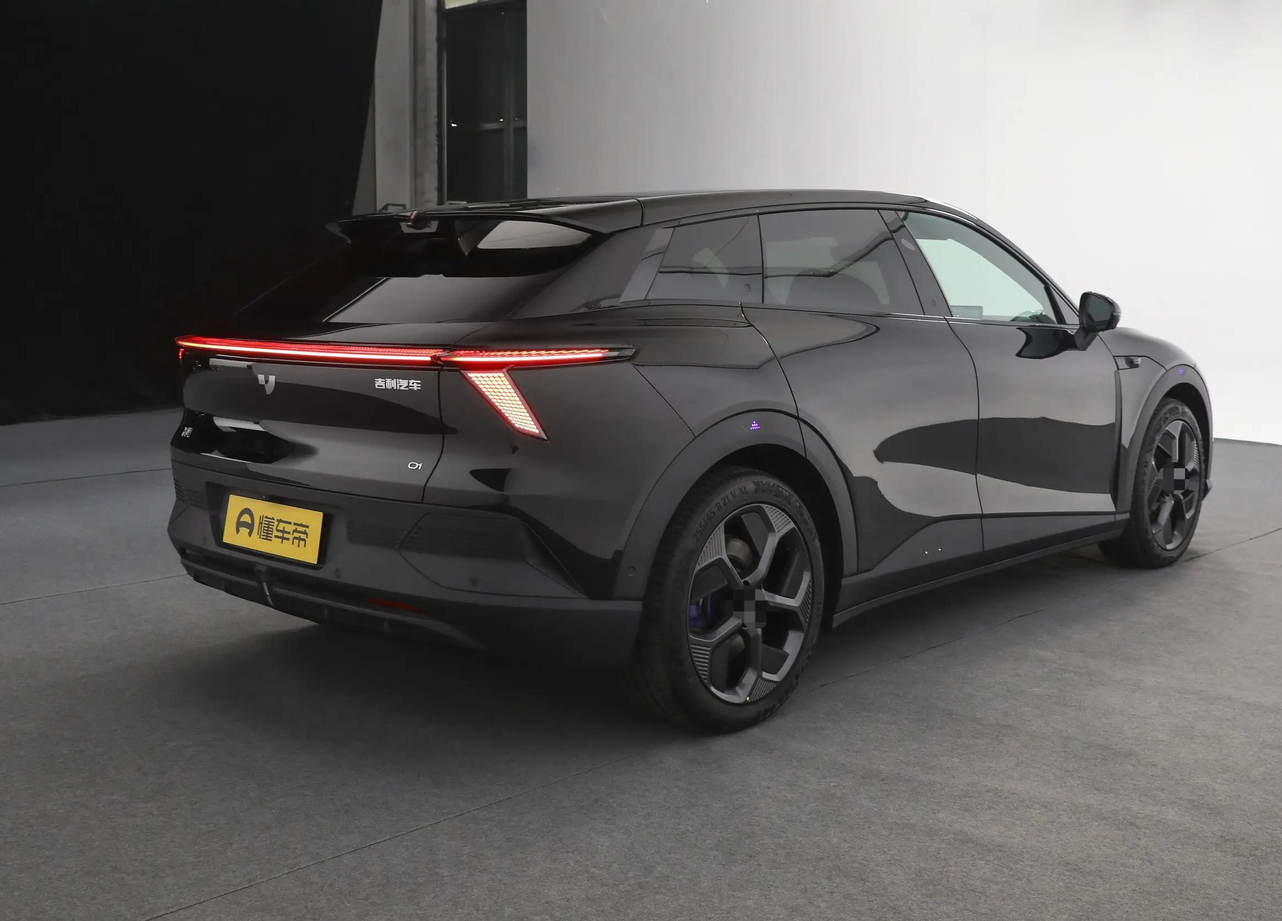JIYUE: (257, 373, 276, 395)
